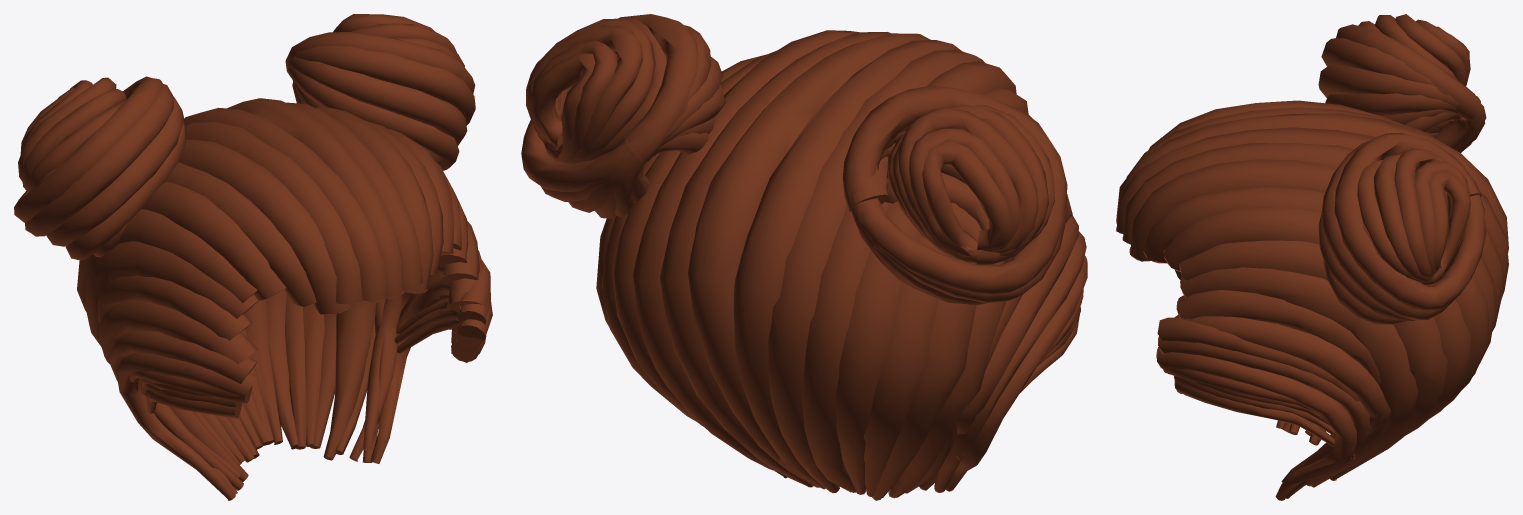
Rendered from hair-6-c6e56cbd.glb.
3 views of the same model, side by side, from view 1: azimuth 30°, elevation 25°; view 2: azimuth 150°, elevation 25°; view 3: azimuth 270°, elevation 25° (orthographic). The views are drawn at different scales.
Visible parts, largest first — view 1: hair_6.001; view 2: hair_6.001; view 3: hair_6.001.
Part boxes in pixels (<box>): hair_6.001: <box>14,14,492,500</box>; hair_6.001: <box>521,14,1087,500</box>; hair_6.001: <box>1116,14,1508,500</box>.
Size of the model in its own units: 2.42 by 2.03 by 1.9.
